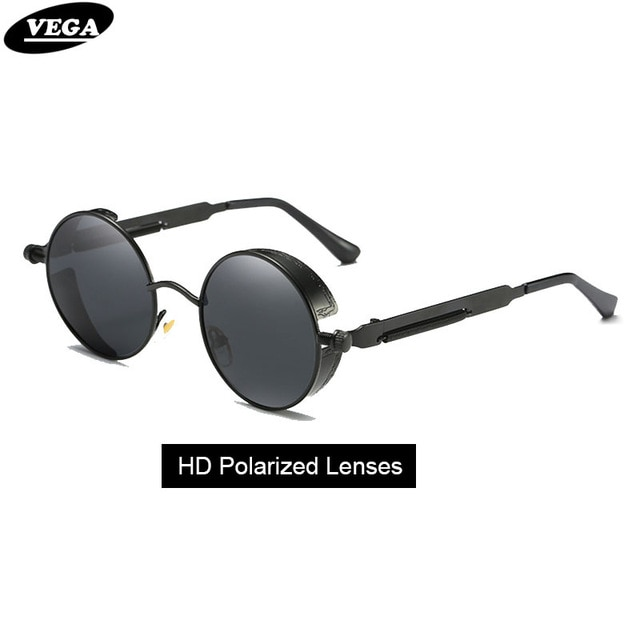sunglasses: (18, 200, 597, 413)
